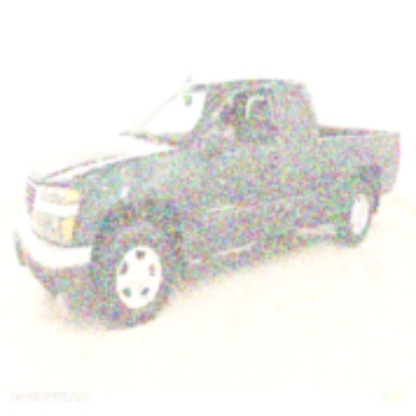Vehicle: (11, 69, 402, 324)
